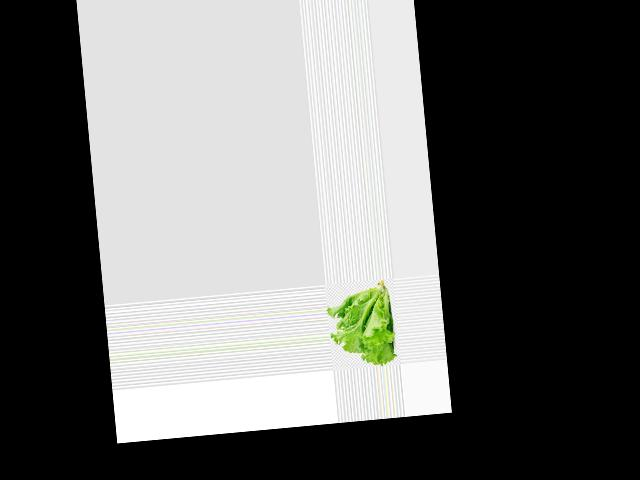lettuce: (325, 279, 395, 369)
